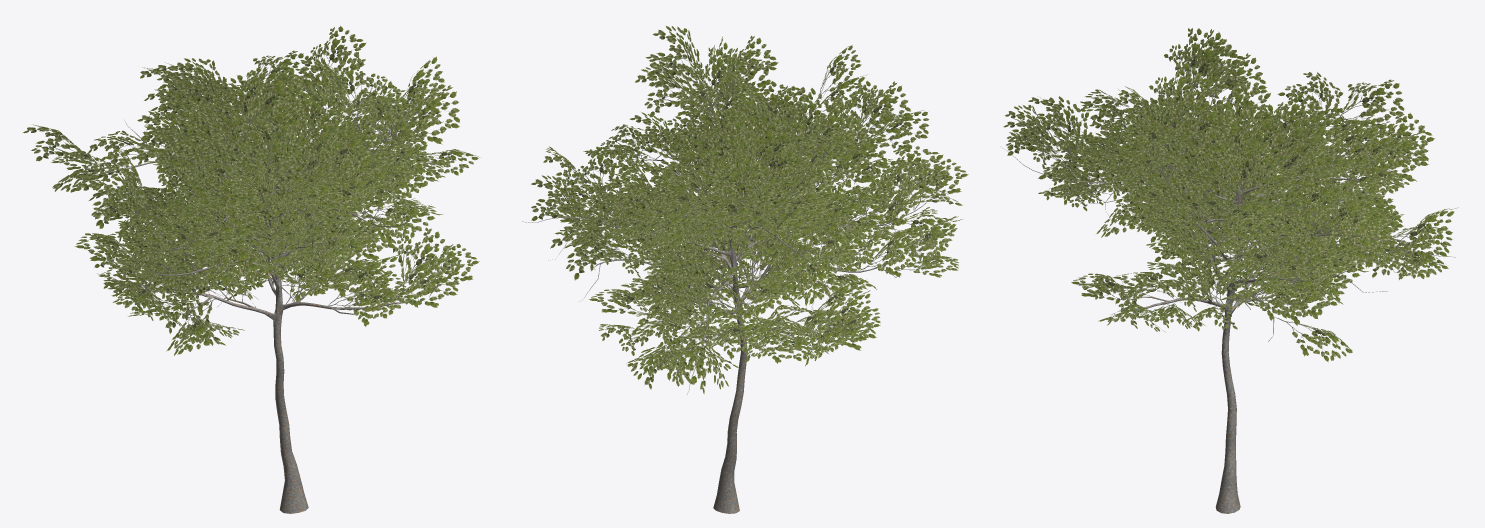
The model's file is MB_Ficus_Aurea_01.fbx.
3 views of the same model, side by side, from view 1: azimuth 30°, elevation 25°; view 2: azimuth 150°, elevation 25°; view 3: azimuth 270°, elevation 25° (orthographic). The views are drawn at different scales.
Parts seen in each view (by area): view 1: MB_Ficus_Aurea_01_LOD0; view 2: MB_Ficus_Aurea_01_LOD0; view 3: MB_Ficus_Aurea_01_LOD0.
Part boxes in pixels (x1,y1,x2,y2): MB_Ficus_Aurea_01_LOD0: (23,26,479,513); MB_Ficus_Aurea_01_LOD0: (522,26,968,513); MB_Ficus_Aurea_01_LOD0: (1000,28,1457,513).
Size of what is drawn, in the model's own units: 963 by 1071 by 1001.
